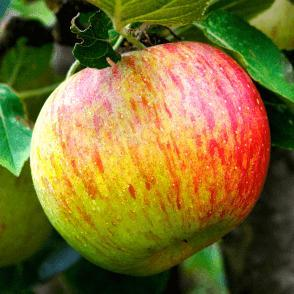apple: (33, 44, 269, 274)
